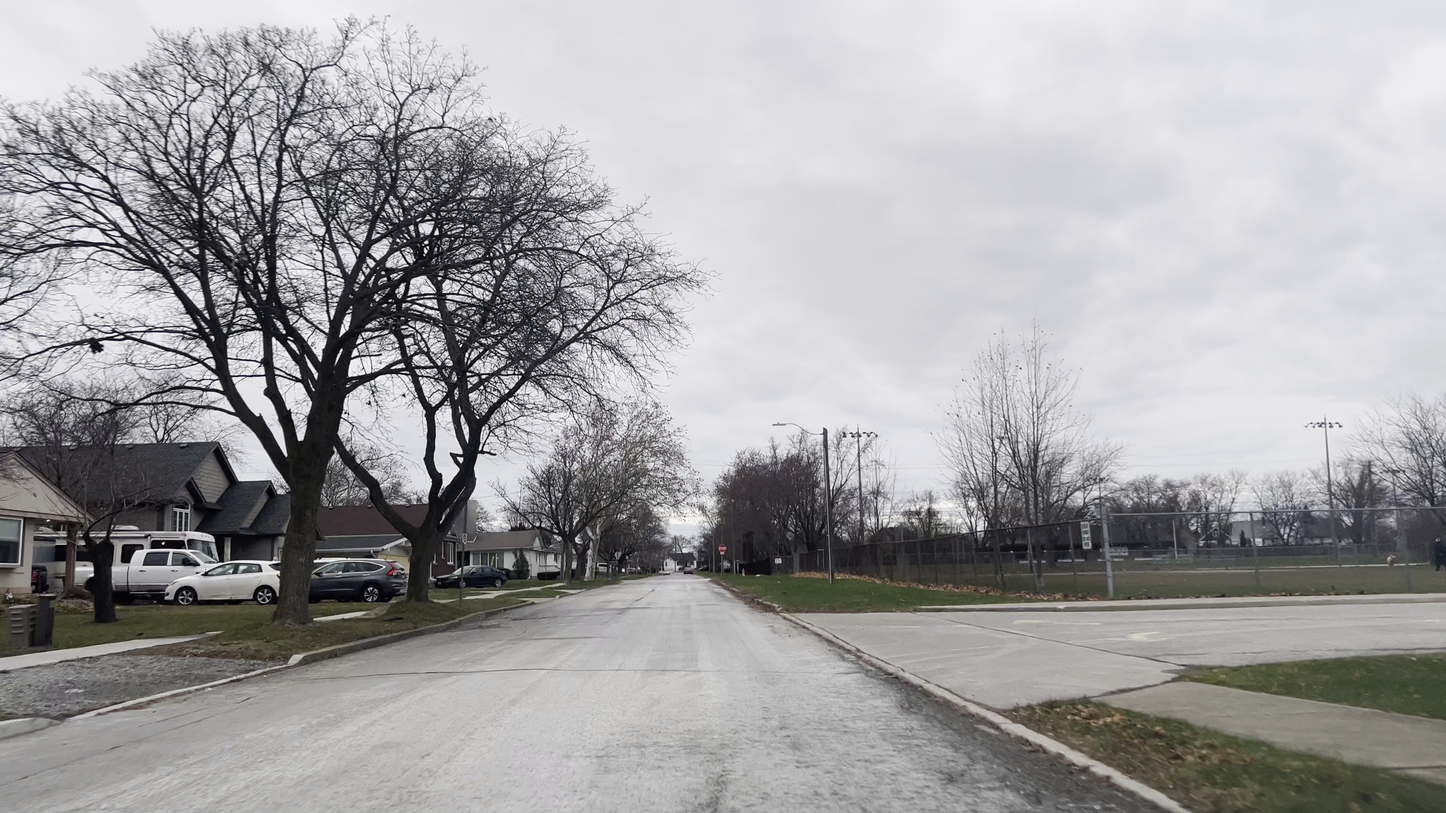debris: (891, 699, 1150, 813)
